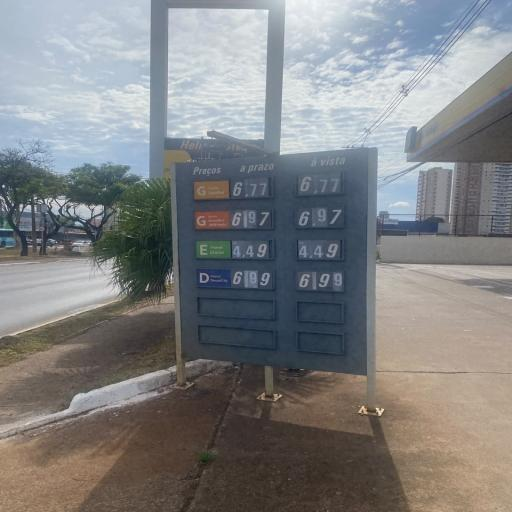GASOLINA AD: (197, 210, 232, 232)
S10: (198, 269, 231, 287)
placa: (176, 159, 287, 298)
preco: (230, 208, 274, 231), (232, 270, 272, 288)
